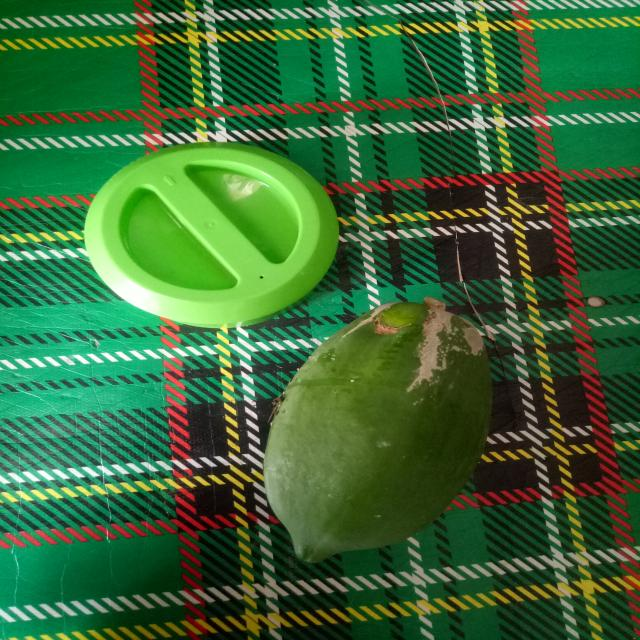Pepaya unrippen: (244, 296, 495, 565)
